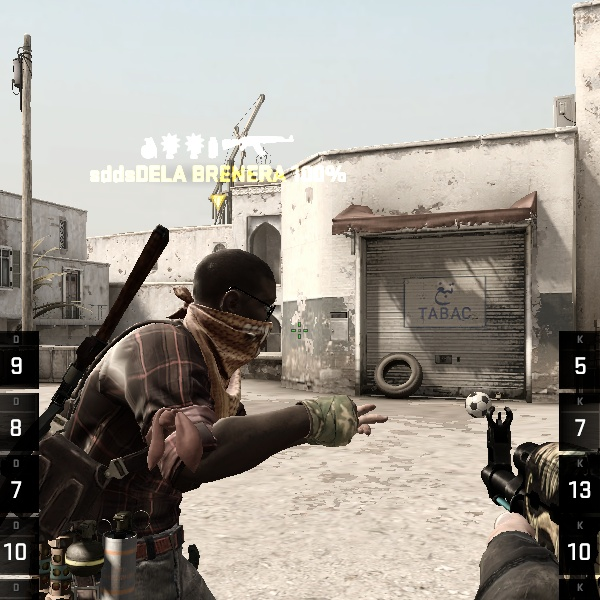t_body: (13, 229, 341, 600)
t_head: (154, 230, 299, 381)
